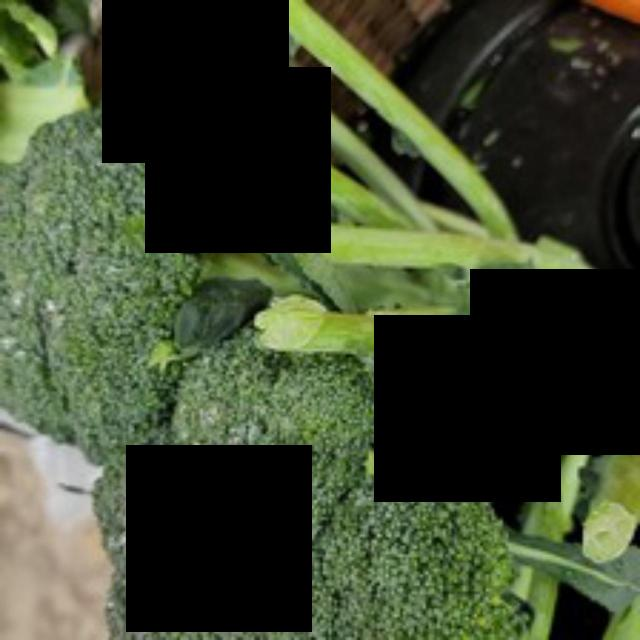broccoli: (57, 328, 540, 637)
